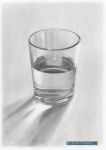glass of water: (28, 30, 77, 102)
